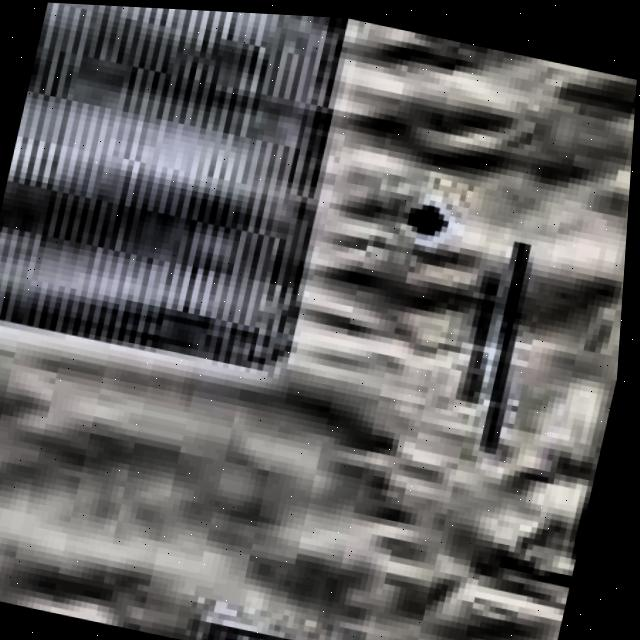paper: (0, 2, 638, 640)
